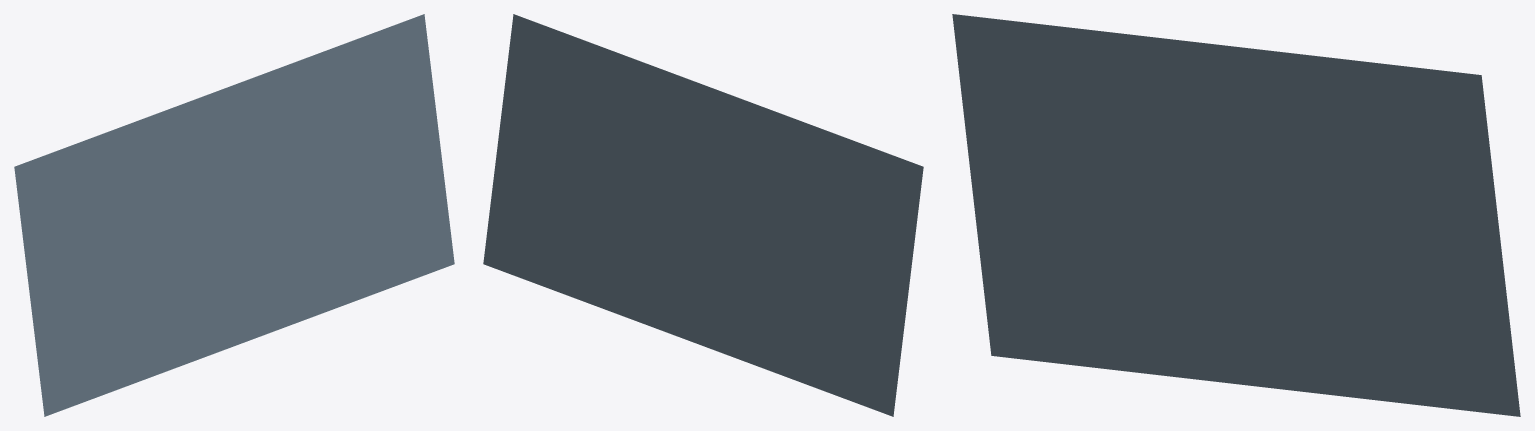
Rendered from v5_wall_c96.obj.
3 views of the same model, side by side, from view 1: azimuth 30°, elevation 25°; view 2: azimuth 150°, elevation 25°; view 3: azimuth 330°, elevation 25° (orthographic). The views are drawn at different scales.
Size of the model in its own units: 6.39 by 4.3 by 0.
